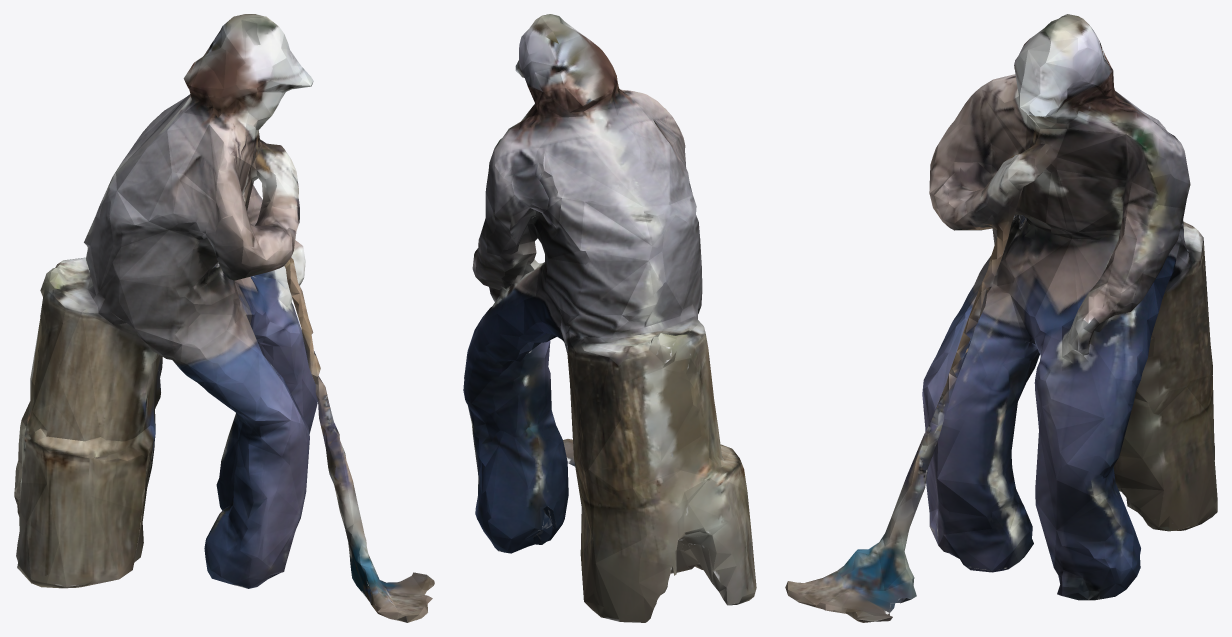
Rendered from kakashi_12b.fbx.
The picture shows the model from 3 angles, left to right: view 1: azimuth 30°, elevation 25°; view 2: azimuth 150°, elevation 25°; view 3: azimuth 270°, elevation 25°; orthographic projection. The views are drawn at different scales.
Visible parts, largest first — view 1: kakashi_12:Mesh; view 2: kakashi_12:Mesh; view 3: kakashi_12:Mesh.
Part boxes in pixels (box(x1,y1,x2,y2)): kakashi_12:Mesh: box(14, 14, 434, 622); kakashi_12:Mesh: box(463, 14, 756, 622); kakashi_12:Mesh: box(785, 14, 1217, 622).
Bounding box in the file's own units: 13.44 × 22.63 × 15.73.
1 material, 1 textured.
